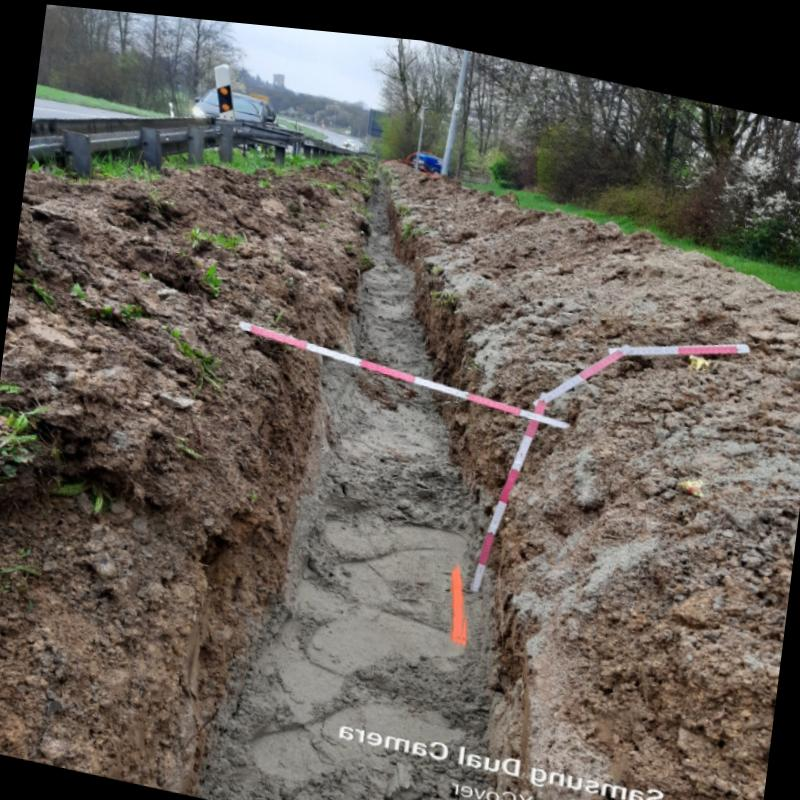Orang-Speednetrohrchen: (451, 555, 462, 634)
